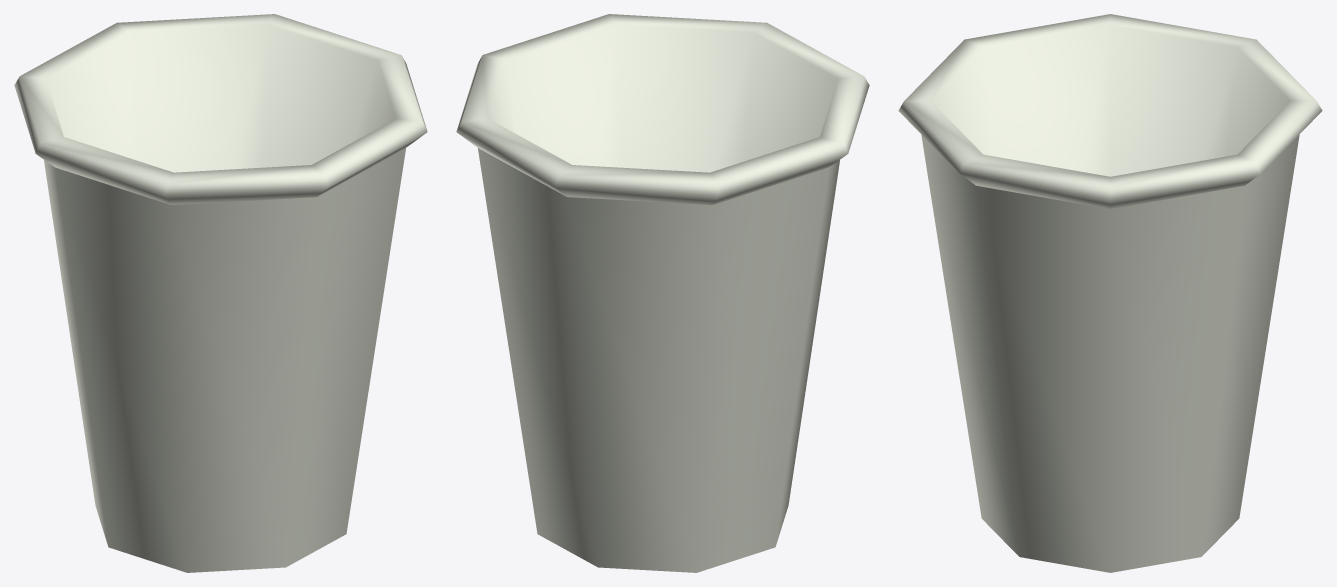
File: 39_prop_cup.FBX
3 views of the same model, side by side, from view 1: azimuth 30°, elevation 25°; view 2: azimuth 150°, elevation 25°; view 3: azimuth 270°, elevation 25° (orthographic).
Visible parts, largest first — view 1: prop_cup; view 2: prop_cup; view 3: prop_cup.
Boxes of the visible parts, left/top/right/bottom form: prop_cup: left=14, top=14, right=427, bottom=572; prop_cup: left=456, top=14, right=869, bottom=572; prop_cup: left=898, top=14, right=1322, bottom=572.
Bounding box in the file's own units: 8.89 × 9.66 × 8.89.
